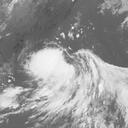cyclone: (24, 47, 101, 107)
